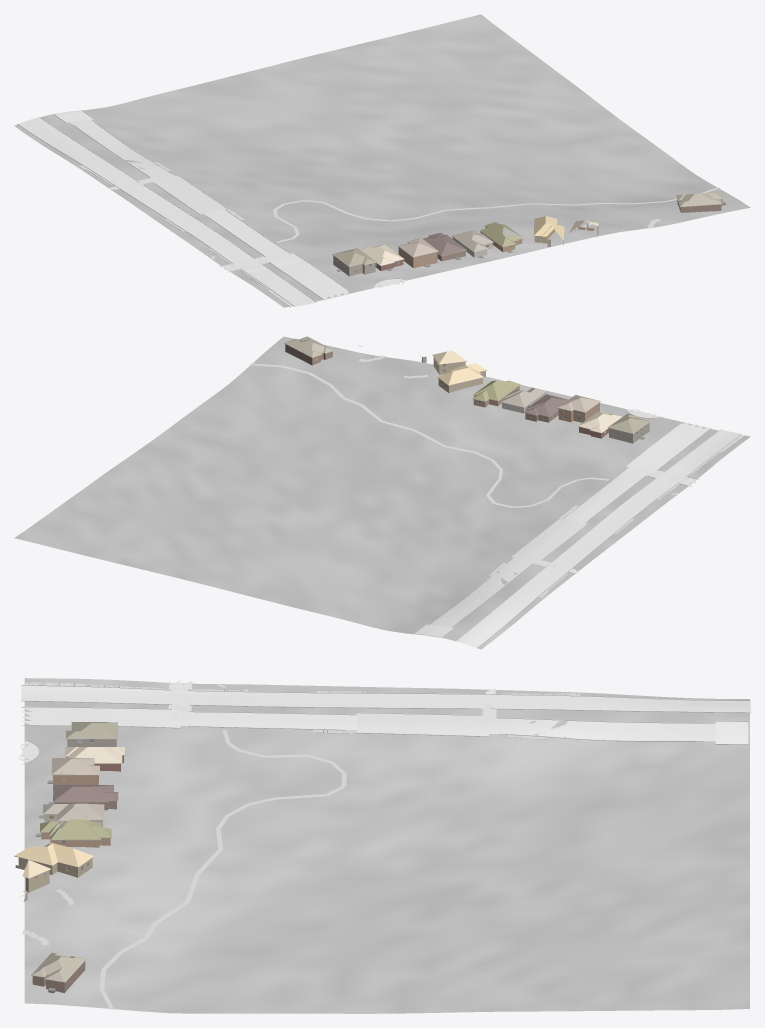
3 renders of one model, top to bottom at view 1: azimuth 30°, elevation 25°; view 2: azimuth 150°, elevation 25°; view 3: azimuth 270°, elevation 25°, orthographic. The views are drawn at different scales.
Visible parts, largest first — view 1: ground, asphalt, roof, wall, walk, curb, mark_w; view 2: ground, asphalt, roof, wall, walk, curb, mark_w; view 3: ground, asphalt, roof, curb, walk, wall, mark_w, detail, mark_y.
Part boxes in pixels (x1,y1,x2,y2): ground: (14,14,750,307); asphalt: (18,111,348,306); roof: (332,192,722,266); wall: (333,199,722,276); walk: (79,162,720,306); curb: (18,111,406,307); mark_w: (19,111,350,306); ground: (14,336,750,649); asphalt: (415,422,740,647); roof: (284,336,650,433); wall: (285,344,649,443); walk: (250,355,744,597); curb: (414,410,745,647); mark_w: (416,423,740,647); ground: (24,678,749,1013); asphalt: (20,680,750,743); roof: (14,722,124,982); curb: (21,681,750,764); walk: (22,682,580,1009); wall: (15,739,123,993); mark_w: (22,682,747,743); detail: (14,733,124,993); mark_y: (21,681,750,724).
Bounding box in the file's own units: 253 × 18.56 × 254.
